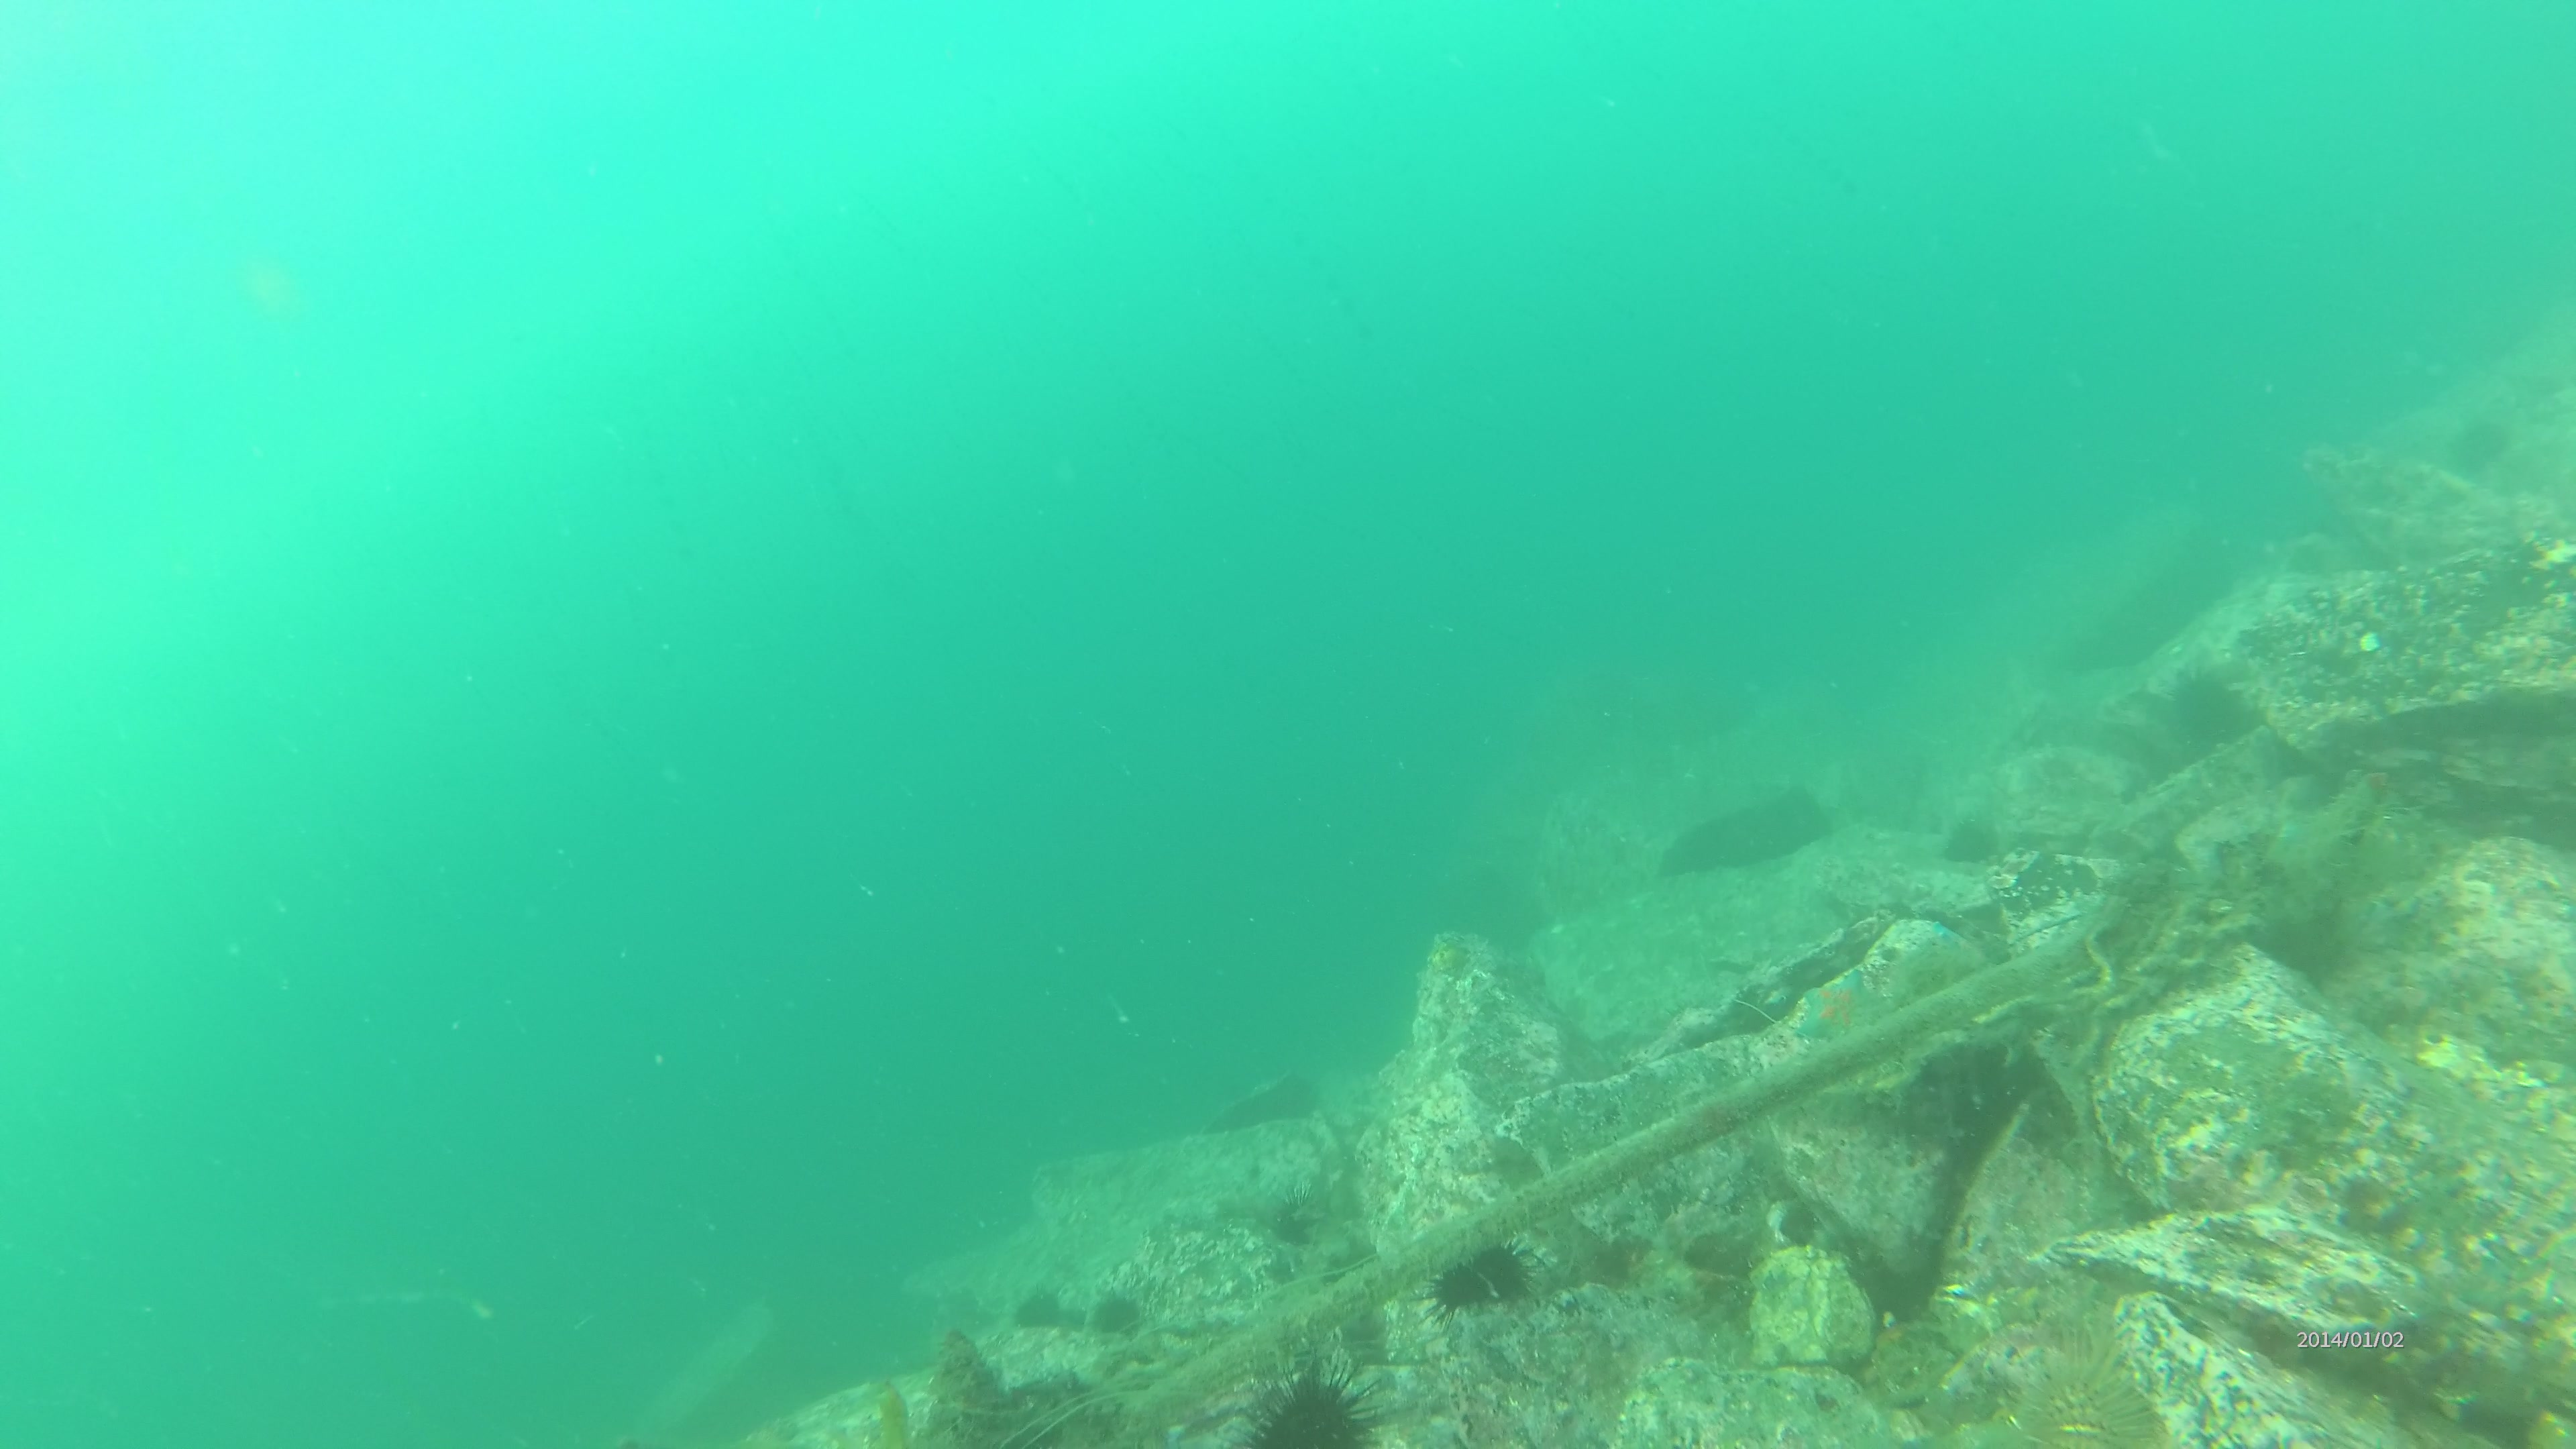echinus: (2001, 1330, 2167, 1449), (1240, 1352, 1399, 1449), (1465, 1240, 1543, 1311), (1412, 1258, 1486, 1330), (1263, 1185, 1323, 1246), (1092, 1288, 1143, 1339), (1012, 1284, 1062, 1338)
starfish: (1798, 966, 1893, 1046)
